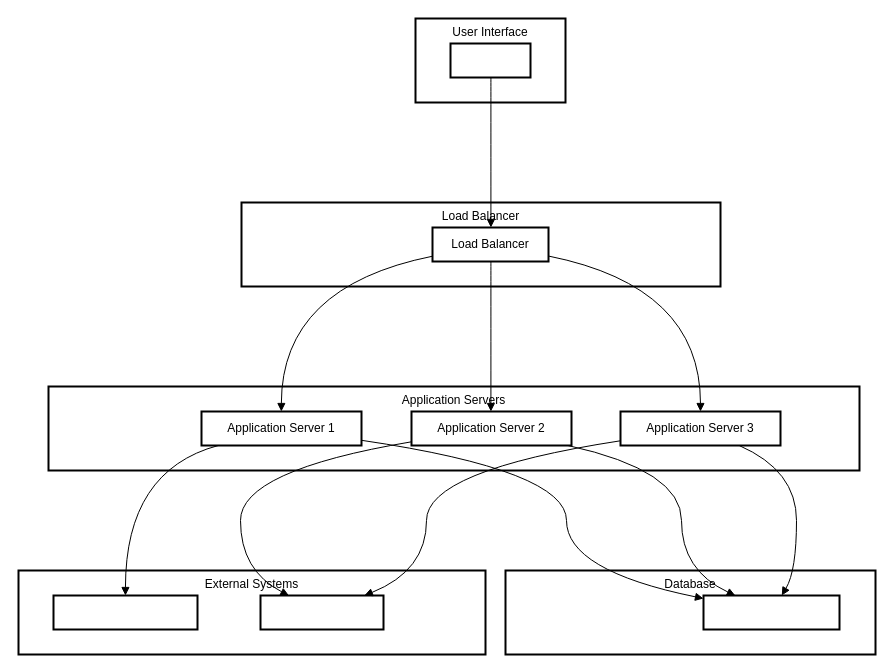
Some shapes in this 893 by 672 pixel diagram are drawn without their labels. Each missing label, with the box of its shape:
Database Cluster: (702, 594, 840, 630)
Payment Gateway: (52, 594, 198, 630)
Third-party API: (259, 594, 384, 630)
UI Server: (449, 42, 531, 78)
